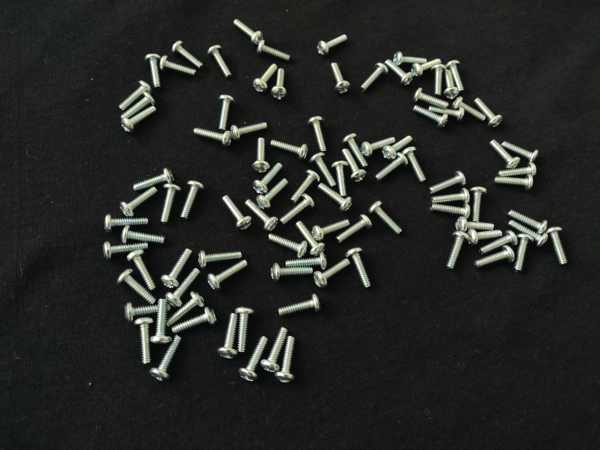shortscrew: (150, 334, 184, 384), (116, 267, 158, 307), (207, 257, 251, 294), (166, 266, 202, 310), (239, 335, 269, 384), (160, 247, 193, 291), (166, 292, 205, 329), (260, 326, 290, 374), (170, 306, 218, 335), (127, 249, 158, 293), (119, 183, 159, 216), (220, 195, 255, 232), (369, 198, 403, 235), (278, 193, 316, 226), (312, 258, 351, 290), (345, 246, 374, 289), (508, 209, 550, 238), (277, 293, 322, 320), (149, 298, 173, 348), (508, 219, 549, 248), (290, 169, 321, 207), (102, 238, 151, 262), (269, 230, 309, 259), (245, 198, 279, 232), (309, 151, 339, 189), (217, 312, 240, 361), (374, 151, 408, 184), (118, 79, 150, 114), (479, 229, 519, 257), (336, 214, 372, 245), (317, 182, 353, 213), (296, 220, 326, 257), (311, 215, 352, 242), (120, 106, 159, 134), (430, 168, 470, 195), (233, 306, 255, 355), (275, 336, 297, 385), (270, 262, 316, 285), (256, 178, 288, 211), (489, 139, 521, 172), (445, 230, 471, 270), (121, 224, 166, 247), (132, 167, 175, 191), (547, 224, 571, 267), (133, 316, 154, 365), (121, 92, 156, 121), (199, 248, 243, 271), (342, 133, 370, 169), (180, 180, 205, 220), (172, 40, 204, 71), (382, 133, 414, 164), (253, 162, 283, 195), (125, 301, 170, 323), (512, 232, 535, 275), (475, 244, 516, 268), (159, 183, 182, 225), (342, 147, 368, 184), (359, 62, 389, 94), (402, 146, 427, 184), (501, 139, 540, 163), (412, 104, 449, 129), (192, 125, 232, 148), (475, 97, 504, 128), (233, 18, 265, 46), (103, 213, 150, 232), (453, 96, 487, 122), (208, 44, 233, 79), (361, 133, 396, 158), (158, 55, 196, 78), (231, 119, 269, 142), (384, 59, 415, 87), (430, 186, 471, 207), (270, 139, 309, 161), (306, 115, 328, 154), (215, 93, 236, 133), (142, 54, 164, 92), (492, 173, 536, 192), (253, 62, 278, 95), (316, 31, 349, 56), (285, 252, 328, 271), (256, 39, 292, 61), (411, 56, 444, 80), (468, 186, 489, 223), (331, 160, 351, 198), (413, 88, 451, 108), (329, 61, 352, 94), (467, 228, 504, 248), (455, 217, 495, 235), (498, 161, 538, 179), (430, 203, 472, 220), (251, 138, 271, 173), (446, 60, 466, 93), (427, 104, 465, 121), (271, 68, 289, 101), (442, 68, 460, 101), (393, 51, 427, 67), (432, 64, 448, 98)
